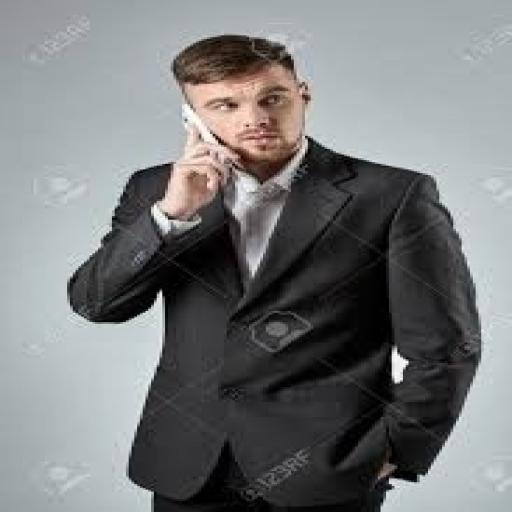calling: (64, 32, 484, 510)
